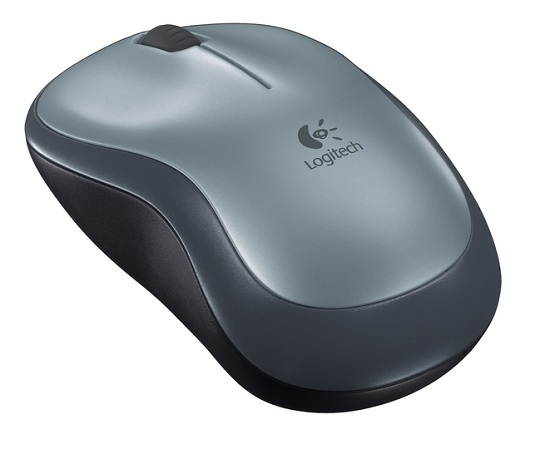logitech-mouse-m185: (24, 20, 510, 412)
